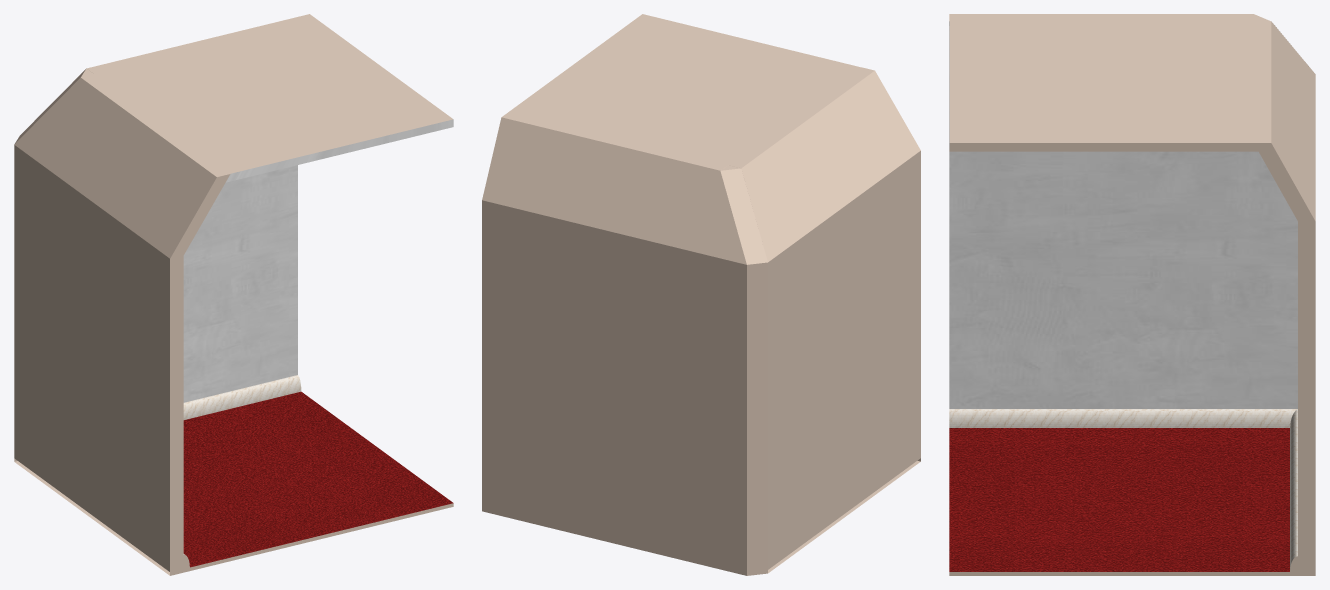
Rendered from Esquina.fbx.
3 renders of one model, left to right at view 1: azimuth 30°, elevation 25°; view 2: azimuth 150°, elevation 25°; view 3: azimuth 270°, elevation 25°, orthographic. The views are drawn at different scales.
Parts seen in each view (by area): view 1: Pared y piso esquina; view 2: Pared y piso esquina; view 3: Pared y piso esquina.
Part boxes in pixels (box(x1,y1,x2,y2)): Pared y piso esquina: box(14, 14, 453, 575); Pared y piso esquina: box(482, 14, 920, 575); Pared y piso esquina: box(949, 14, 1315, 575).
Size of the model in its own units: 421 by 549 by 421.
Materials: 4 (3 with a texture image).
